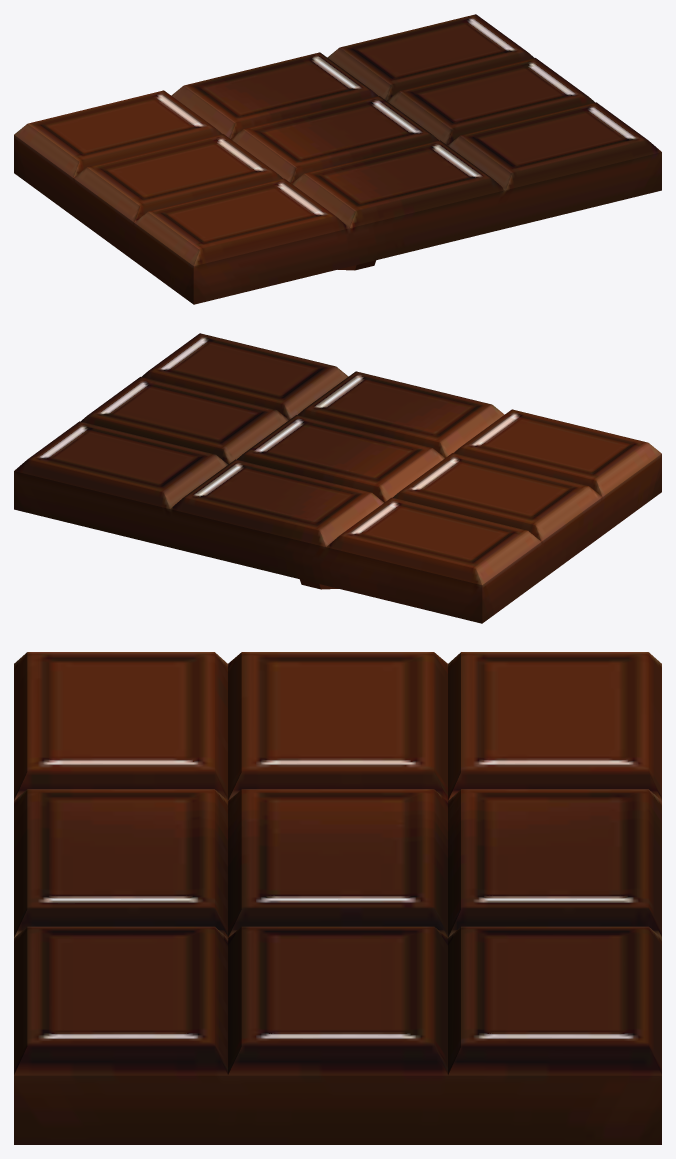
File: shield0063.fbx
The picture shows the model from 3 angles, top to bottom: view 1: azimuth 30°, elevation 25°; view 2: azimuth 150°, elevation 25°; view 3: azimuth 270°, elevation 25°; orthographic projection. The views are drawn at different scales.
Parts seen in each view (by area): view 1: shield0063; view 2: shield0063; view 3: shield0063.
Boxes of the visible parts, x1=… form: shield0063: x1=14, y1=14, x2=661, y2=304; shield0063: x1=14, y1=333, x2=661, y2=623; shield0063: x1=14, y1=652, x2=661, y2=1144.
Size of the model in its own units: 0.4757 by 0.1319 by 0.3164.
